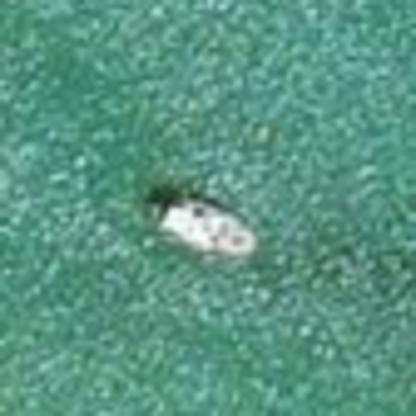ship: (137, 181, 266, 268)
